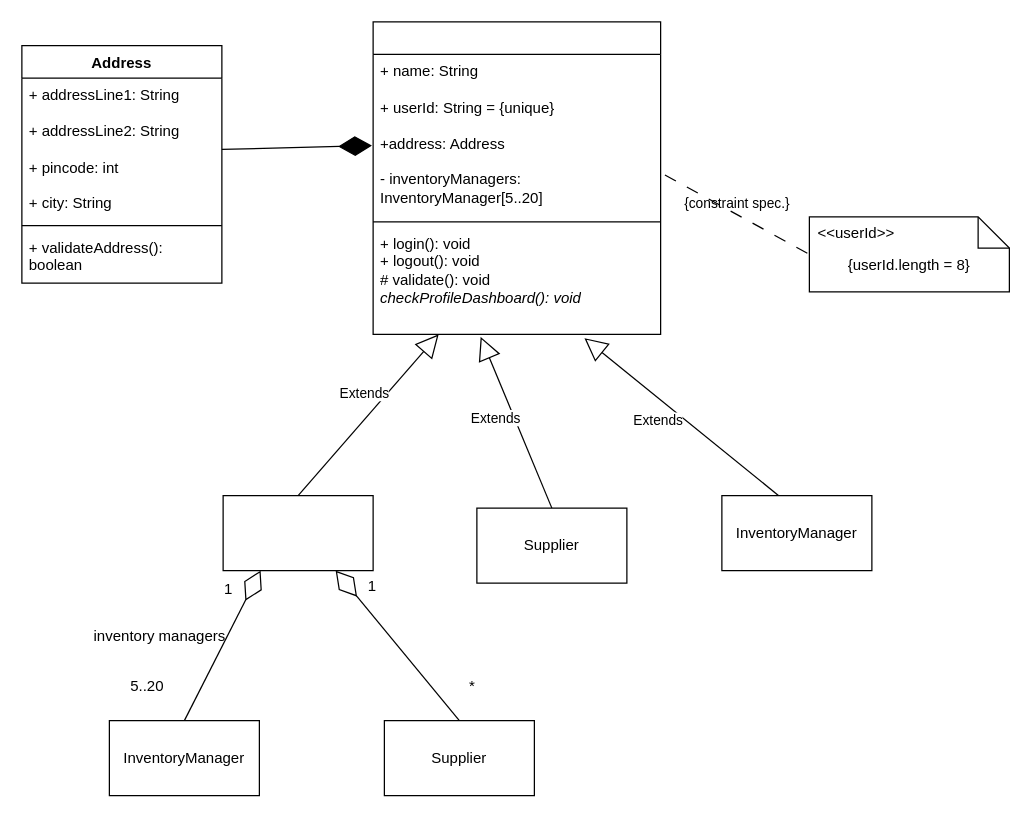
The diagram is 1031 pixels wide and 818 high, and some of its shapes have lost their labels. Each missing label, with the box of its shape:
Admin: (222, 494, 373, 571)
SystemUser: (372, 21, 661, 334)
